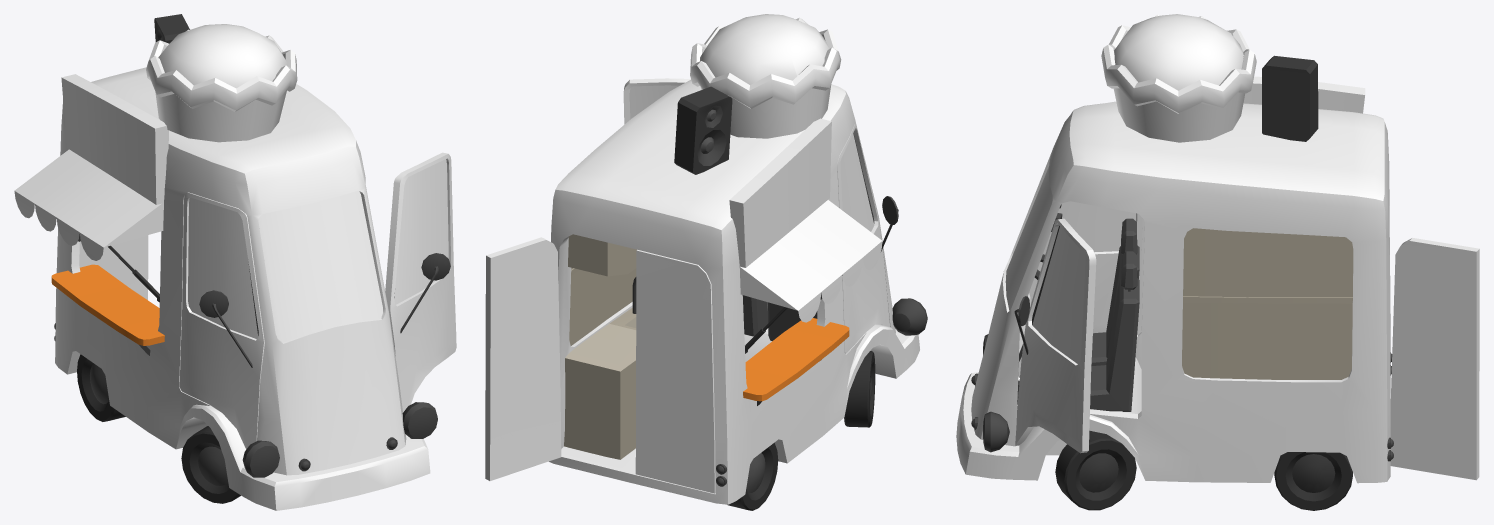
The model's file is Cupcaketruck.fbx.
3 views of the same model, side by side, from view 1: azimuth 30°, elevation 25°; view 2: azimuth 150°, elevation 25°; view 3: azimuth 270°, elevation 25° (orthographic). The views are drawn at different scales.
Visible parts, largest first — view 1: body_iceCreamTruckDetailsGlass_0; view 2: body_iceCreamTruckDetailsGlass_0; view 3: body_iceCreamTruckDetailsGlass_0.
Part boxes in pixels (x1,y1,x2,y2): body_iceCreamTruckDetailsGlass_0: (14,14,456,510); body_iceCreamTruckDetailsGlass_0: (485,14,927,510); body_iceCreamTruckDetailsGlass_0: (956,14,1479,510).
Size of the model in its own units: 291 by 380 by 419.
